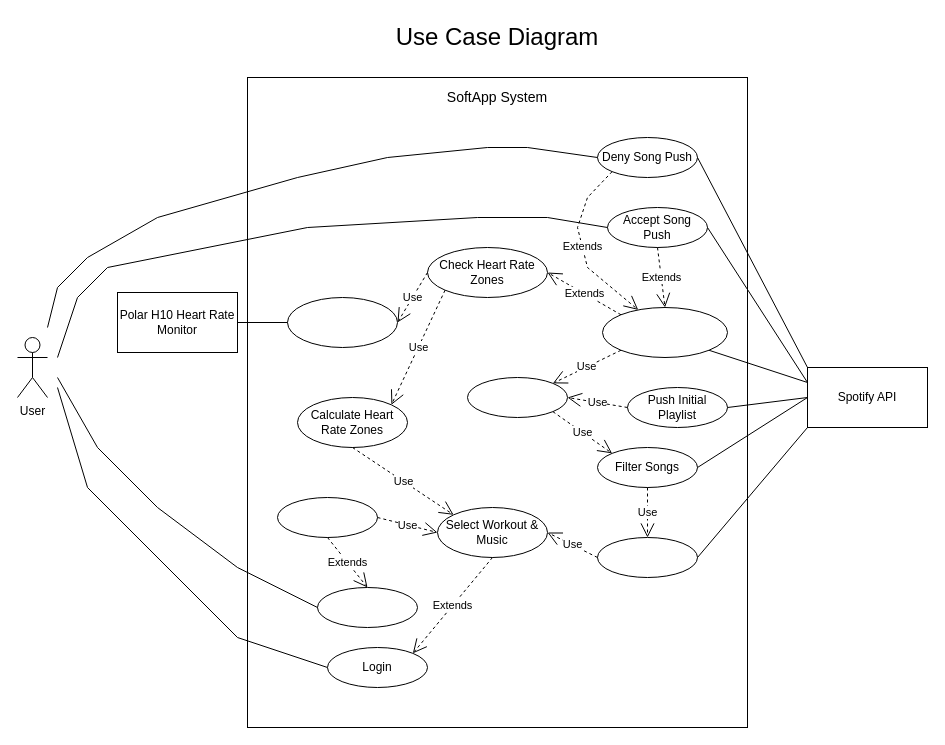
Some shapes in this 945 by 745 pixel diagram are drawn without their labels. Each missing label, with the box of its shape:
Create Account: (316, 586, 418, 628)
Fetch Songs: (596, 536, 698, 578)
Send Heart Rate Data to Back End: (286, 296, 398, 348)
Set Preferences: (276, 496, 378, 538)
Store Song Queues: (466, 376, 568, 418)
Suggest Music from Song Queues: (602, 306, 728, 358)
